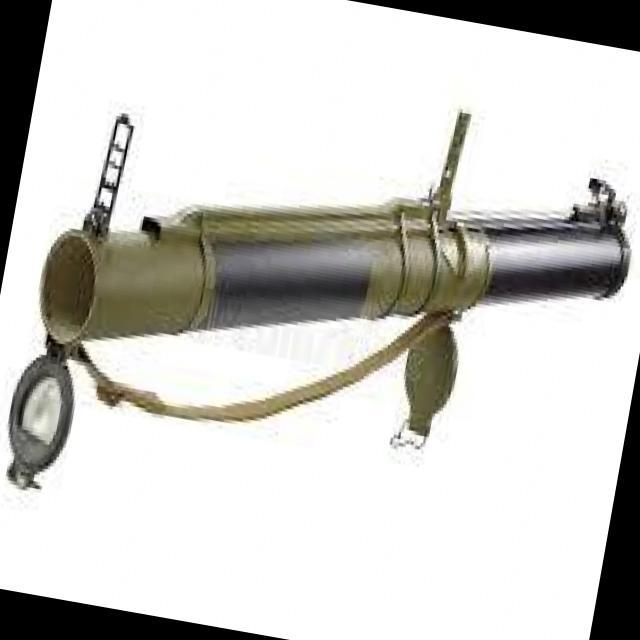rocket: (0, 68, 640, 583)
